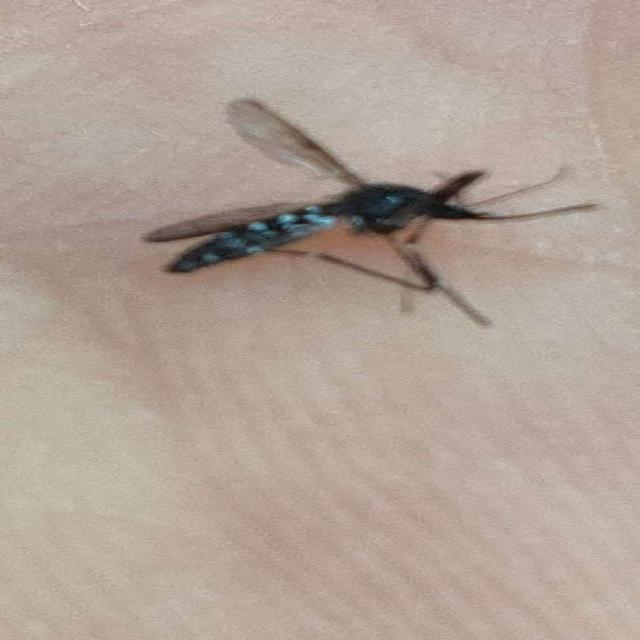albopictus: (139, 87, 606, 347)
